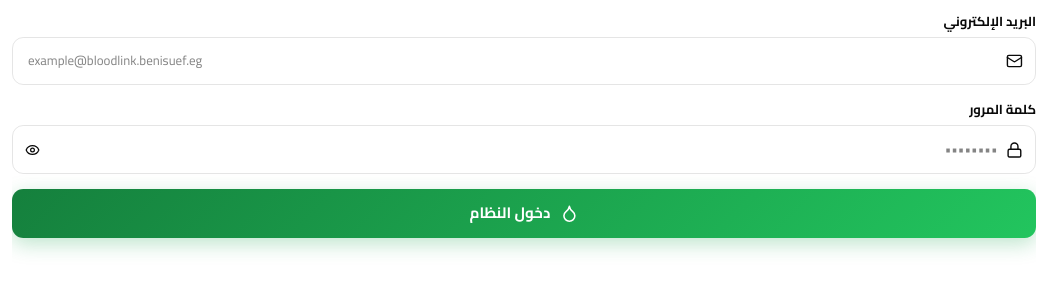
Scenario: LoginForm Component › should display Arabic validation error for invalid email format
The width and height of the screenshot is (1048, 289).
Step 1. Type "invalidemail" into the field with placeholder "example@bloodlink.benisuef.eg" → (524, 61), box [12,37,1036,85]
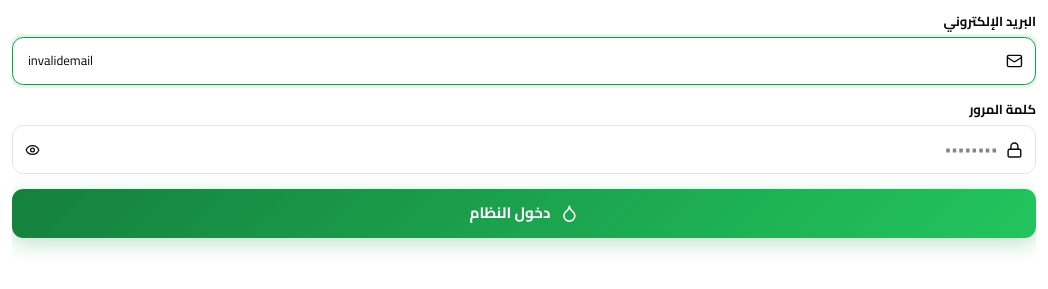
Step 2. Leave the field with placeholder "example@bloodlink.benisuef.eg", box [12,37,1036,85]
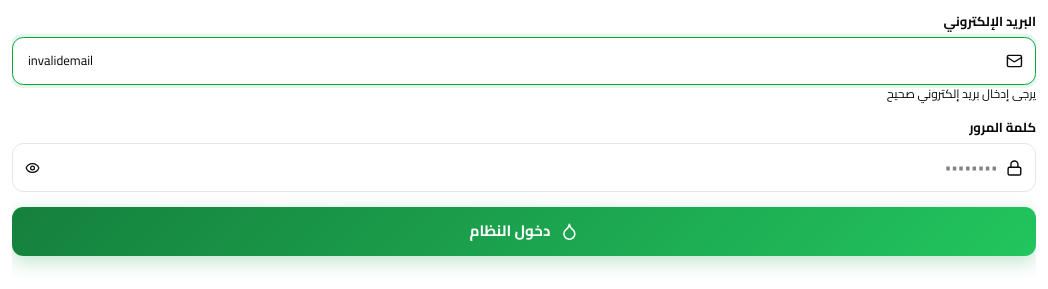
Now the text "يرجى إدخال بريد إلكتروني صحيح" is shown, box [887,82,1036,105]
